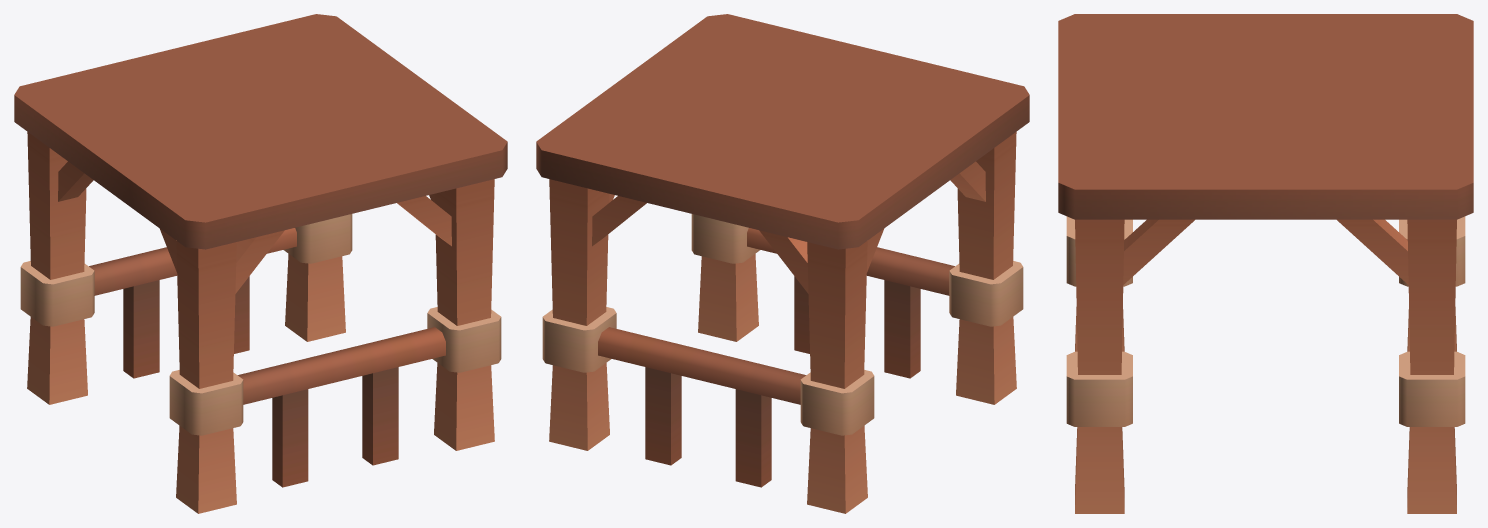
Rendered from kenney-pirate-structure-fence.glb.
3 renders of one model, left to right at view 1: azimuth 30°, elevation 25°; view 2: azimuth 150°, elevation 25°; view 3: azimuth 270°, elevation 25°, orthographic. The views are drawn at different scales.
Parts seen in each view (by area): view 1: structure-fence; view 2: structure-fence; view 3: structure-fence.
Part boxes in pixels (x1=…): structure-fence: x1=14, y1=14, x2=507, y2=513; structure-fence: x1=536, y1=14, x2=1029, y2=513; structure-fence: x1=1058, y1=14, x2=1473, y2=513.
Size of the model in its own units: 2.5 by 2.2 by 2.5.
1 material, 1 textured.
